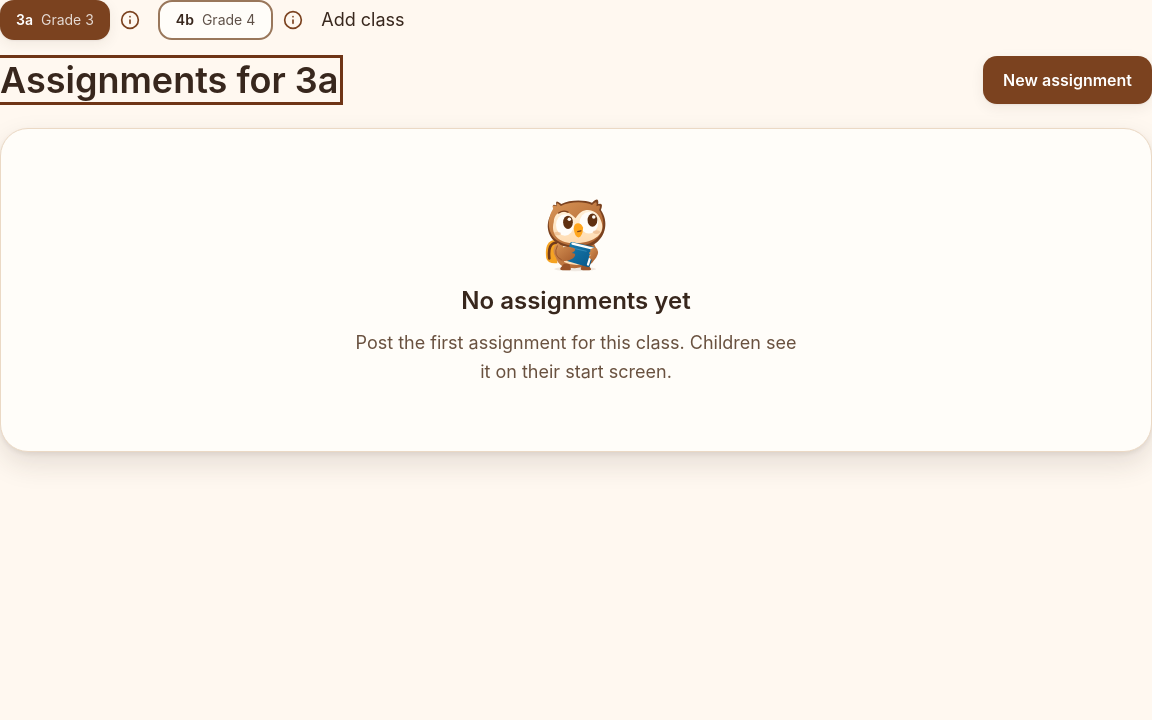
Test case: teacher assignment workspace › shows a form-level message when saving fails for another reason
Click the button "New assignment" at (1068, 80), box [983,56,1151,104]
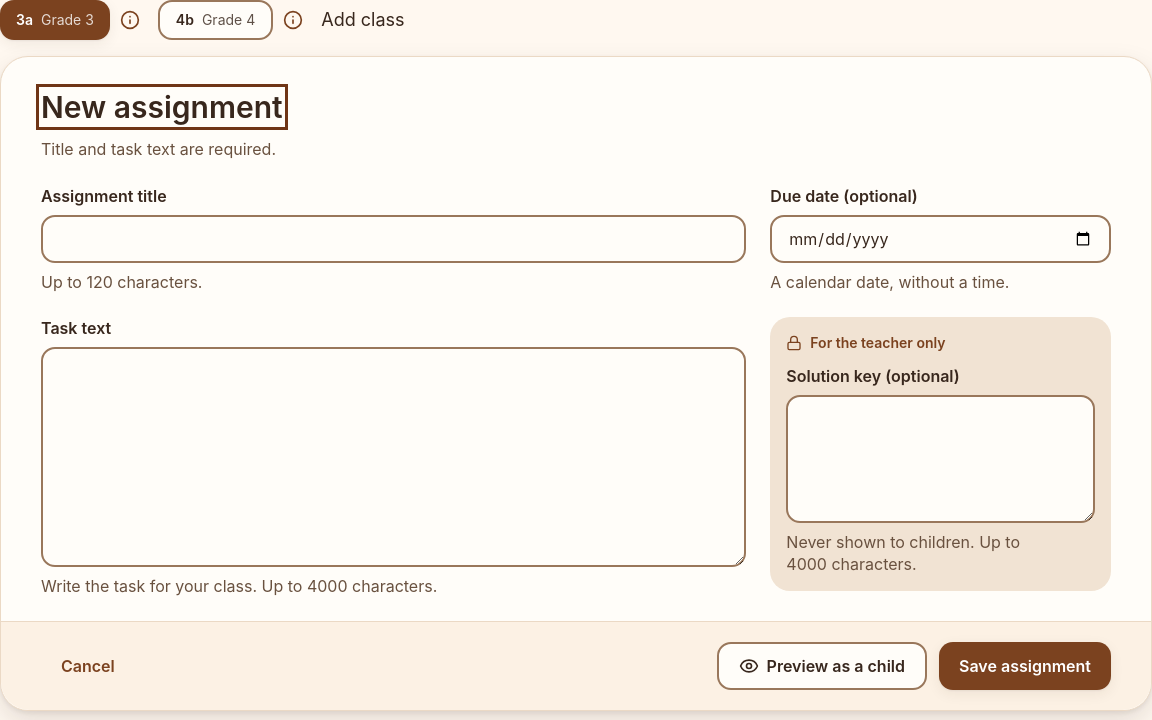
Type "Title" into the field labelled "Assignment title" at (394, 239), box [41,215,746,263]
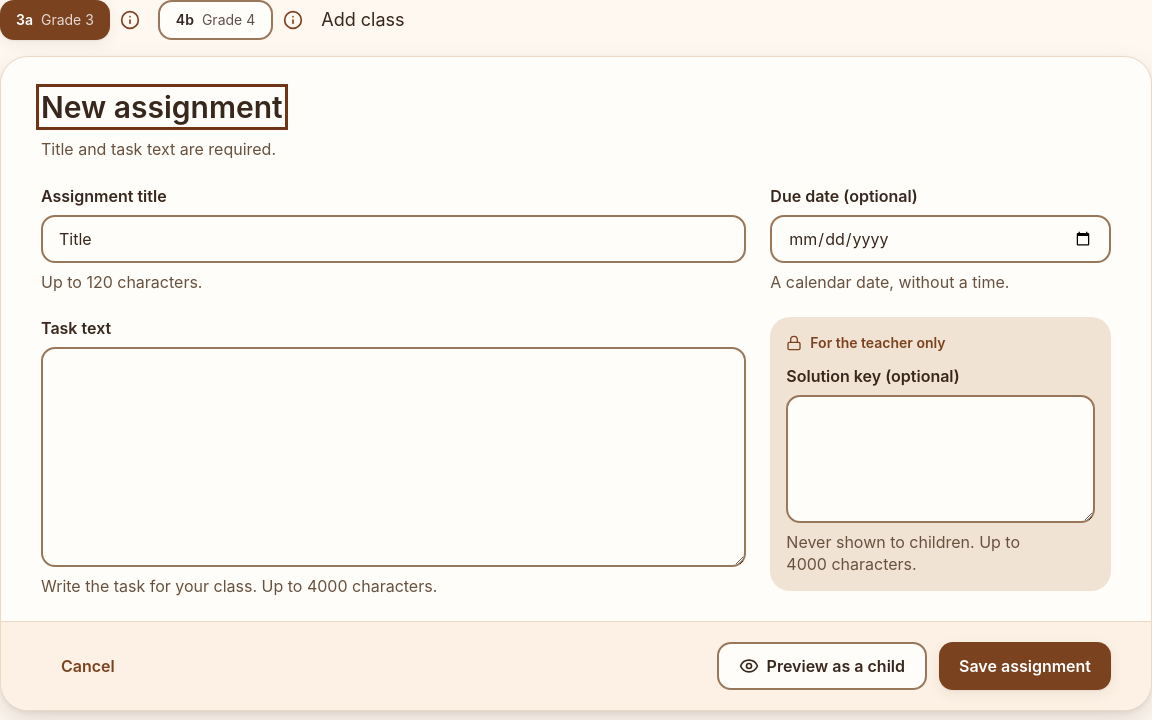
Type "Task" into the text box labelled "Task text" at (394, 457), box [41,347,746,567]
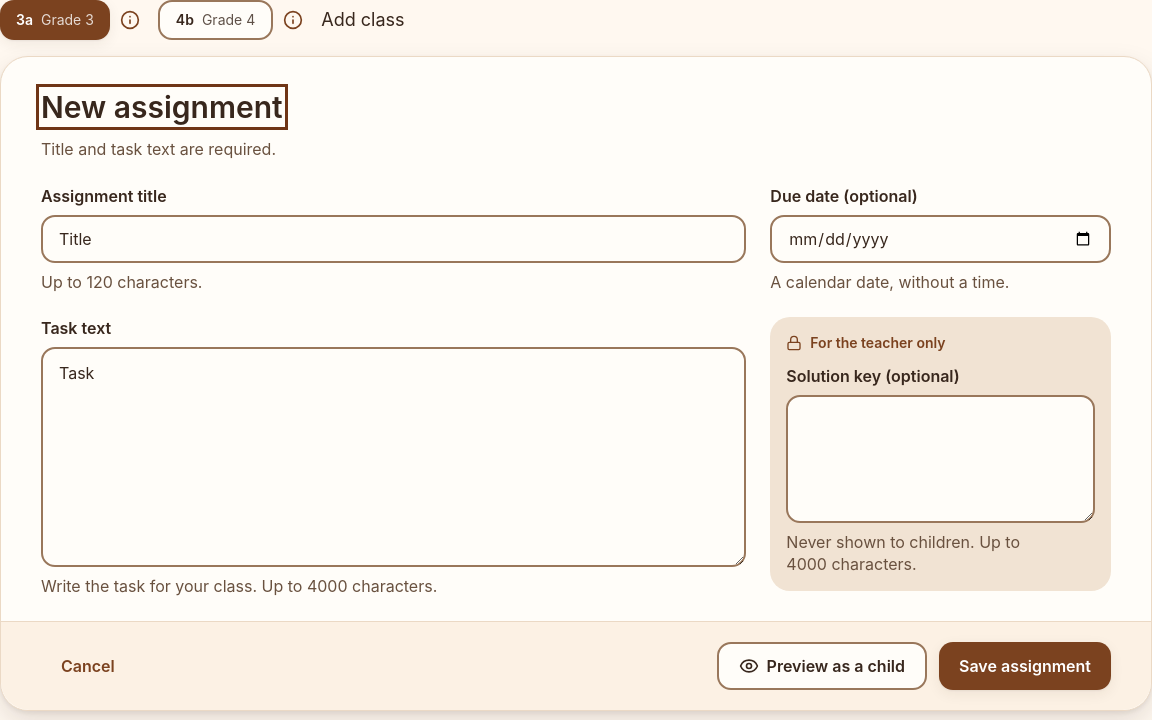
Click the button "Save assignment" at (1025, 666), box [939,642,1111,690]
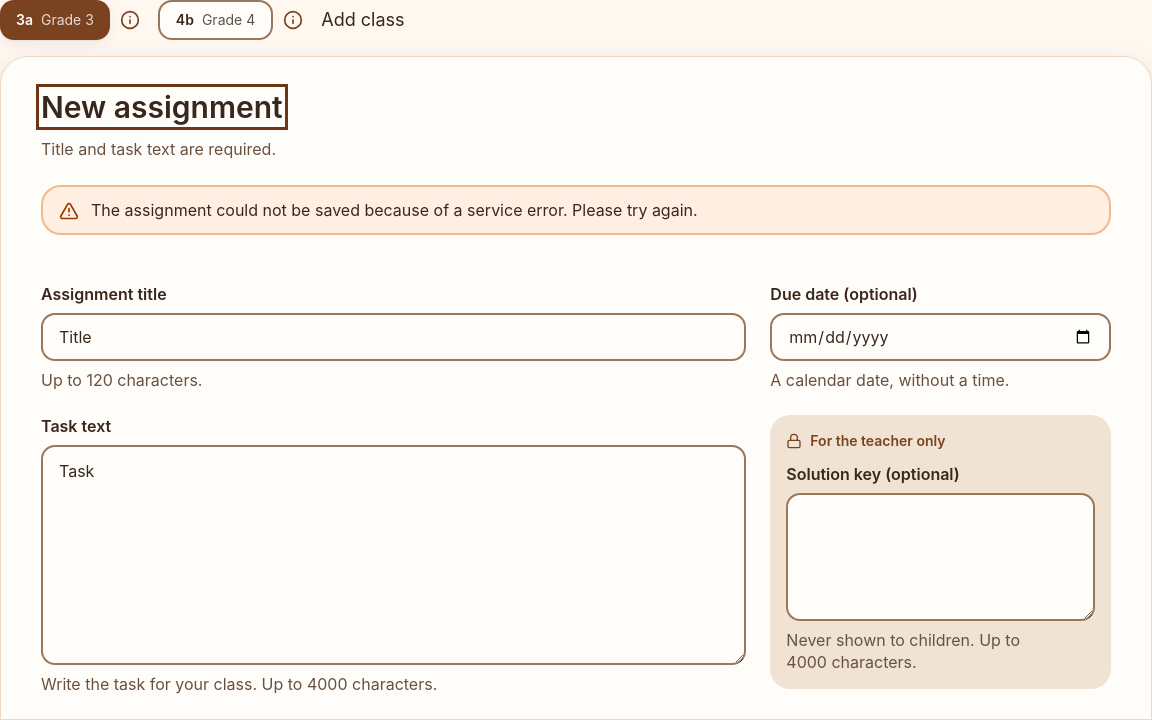
Expected: the message shows "The assignment could not be saved because of a service error.", [91,200,698,220]
